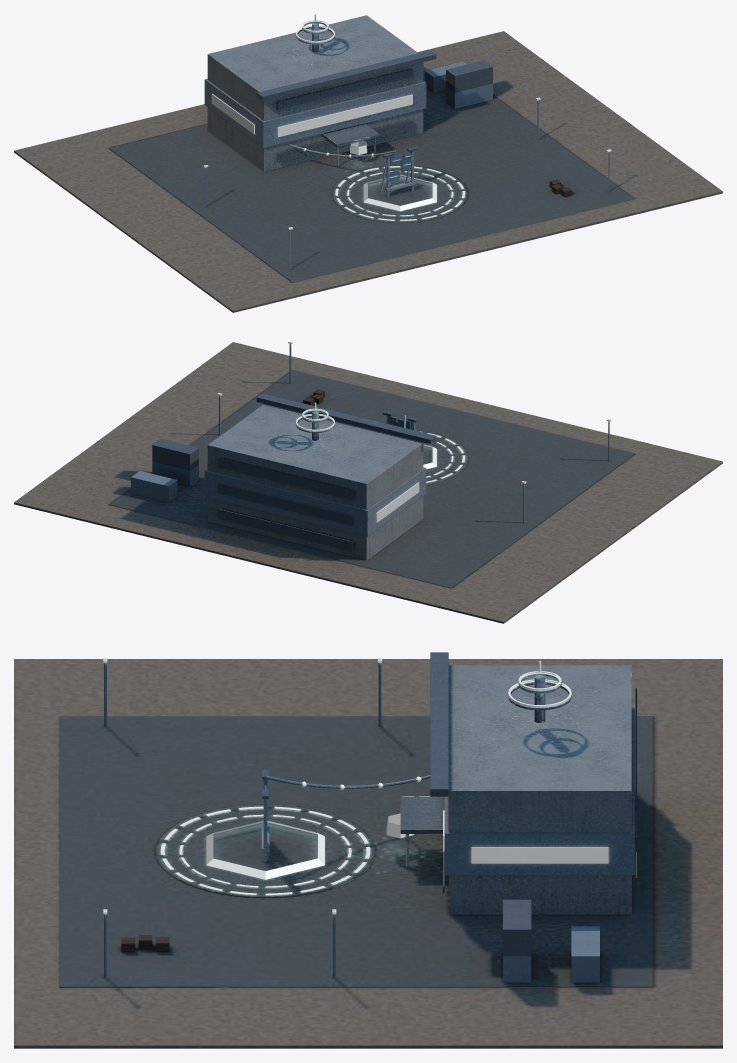
The model's file is arms_rnd.glb.
3 views of the same model, one above another, from view 1: azimuth 30°, elevation 25°; view 2: azimuth 150°, elevation 25°; view 3: azimuth 270°, elevation 25° (orthographic). The views are drawn at different scales.
Parts seen in each view (by area): view 1: site_ground, props_lab, props_yard; view 2: site_ground, props_lab, props_yard; view 3: site_ground, props_lab, props_yard.
Part boxes in pixels (bbox=[...]): site_ground: bbox=[14, 31, 722, 312]; props_lab: bbox=[204, 14, 436, 171]; props_yard: bbox=[203, 60, 611, 269]; site_ground: bbox=[14, 342, 722, 623]; props_lab: bbox=[204, 393, 436, 560]; props_yard: bbox=[131, 341, 611, 523]; site_ground: bbox=[14, 659, 722, 1048]; props_lab: bbox=[386, 652, 636, 914]; props_yard: bbox=[103, 658, 599, 982].
Bounding box in the file's own units: 80 × 18.7 × 62.
3 materials, 3 textured.
